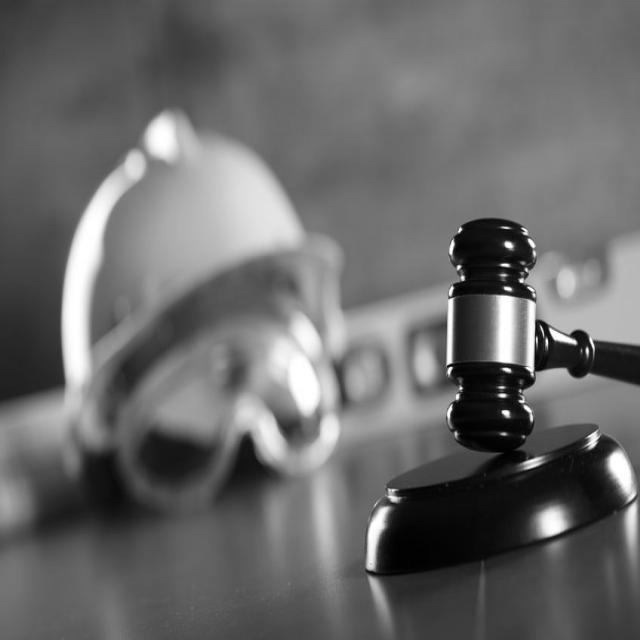safety_helmet: (60, 109, 346, 510)
